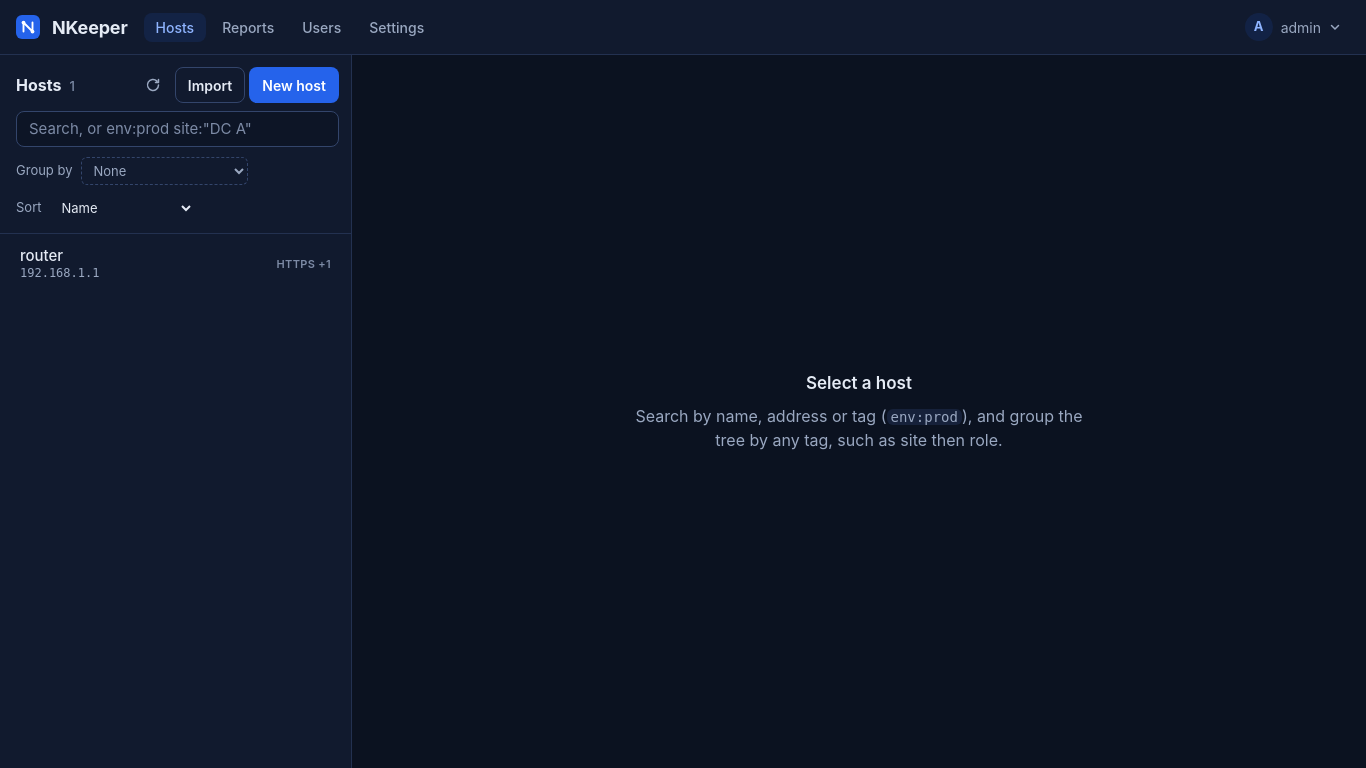
Test: web sessions › explains a changed certificate
Right-click the button "router 192.168.1.1 HTTPS +1" at [42, 256], box [8,242,343,286]
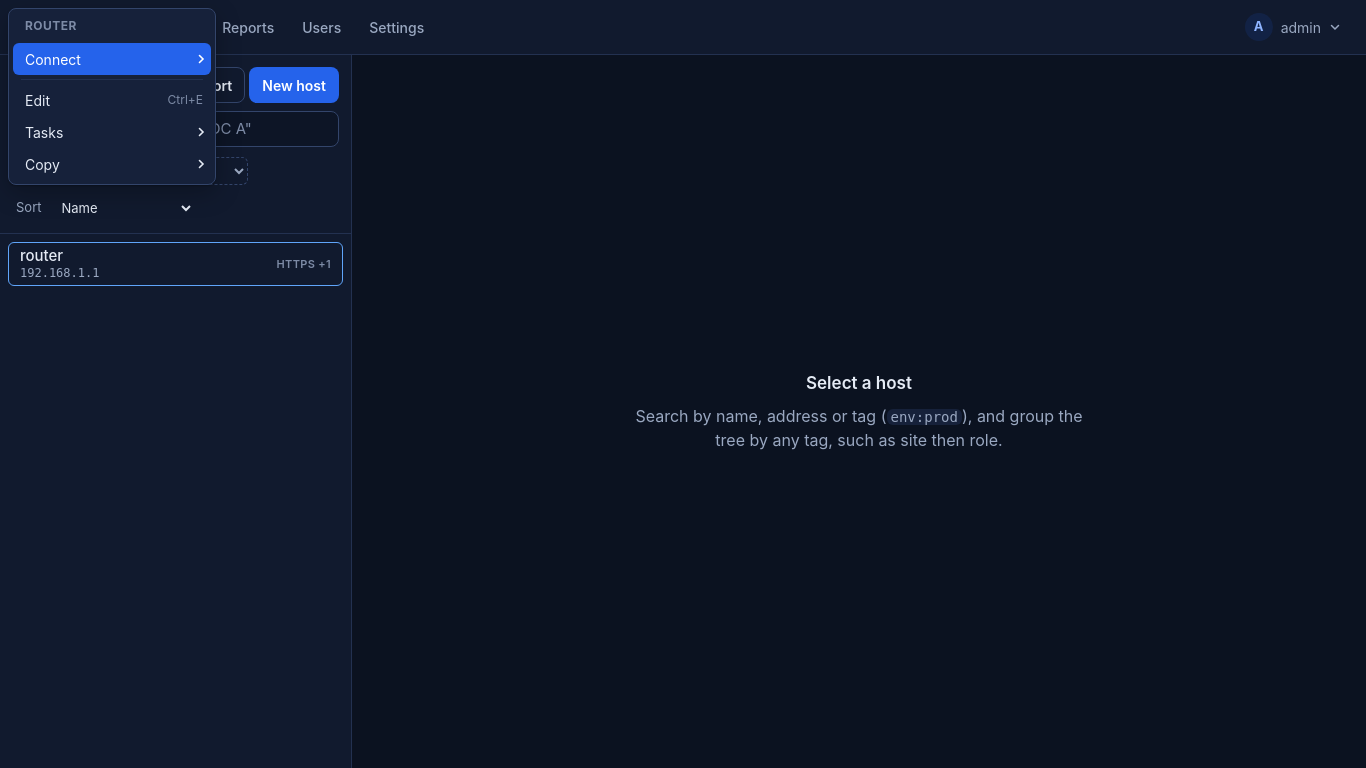
Hover over the menu item "Connect" at [112, 59], box [13,43,211,75]
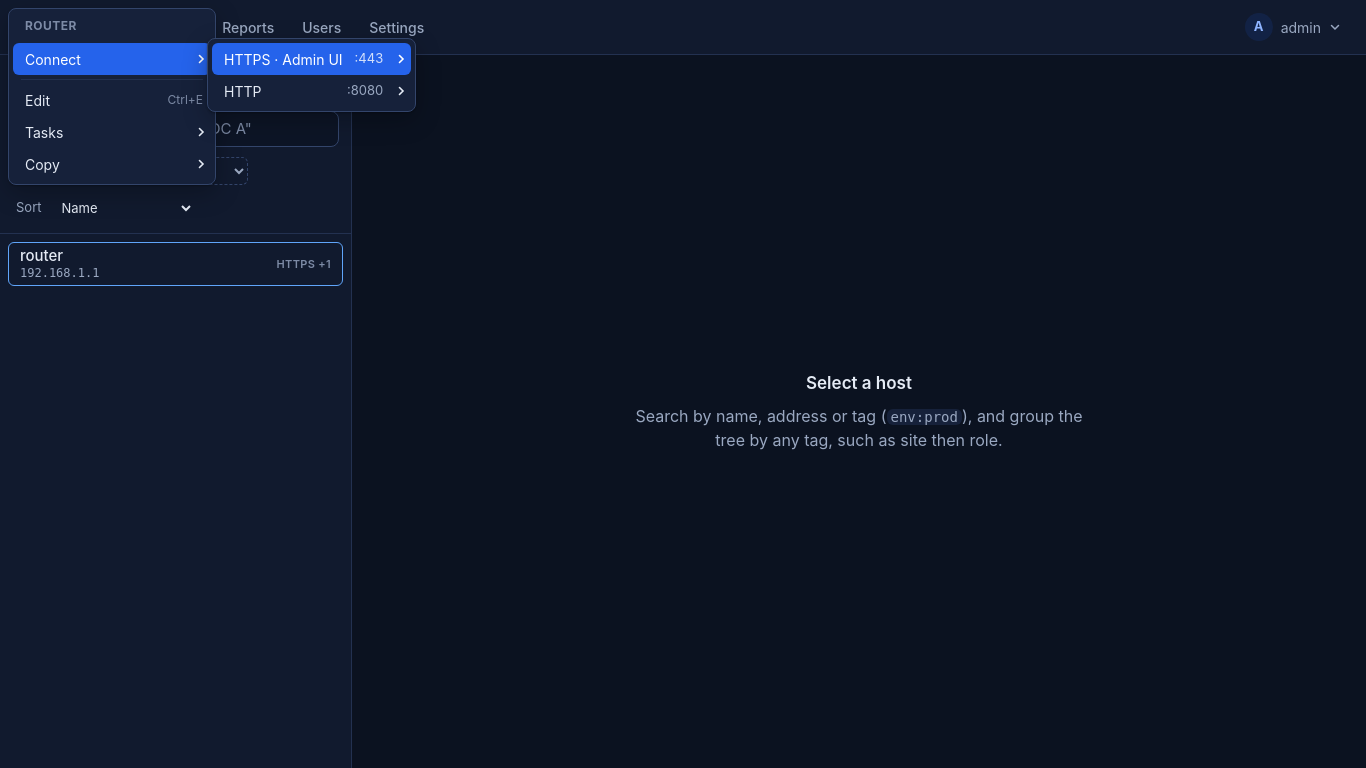
Hover over the menu item "HTTPS · Admin UI :443" at [312, 59], box [212,43,411,75]
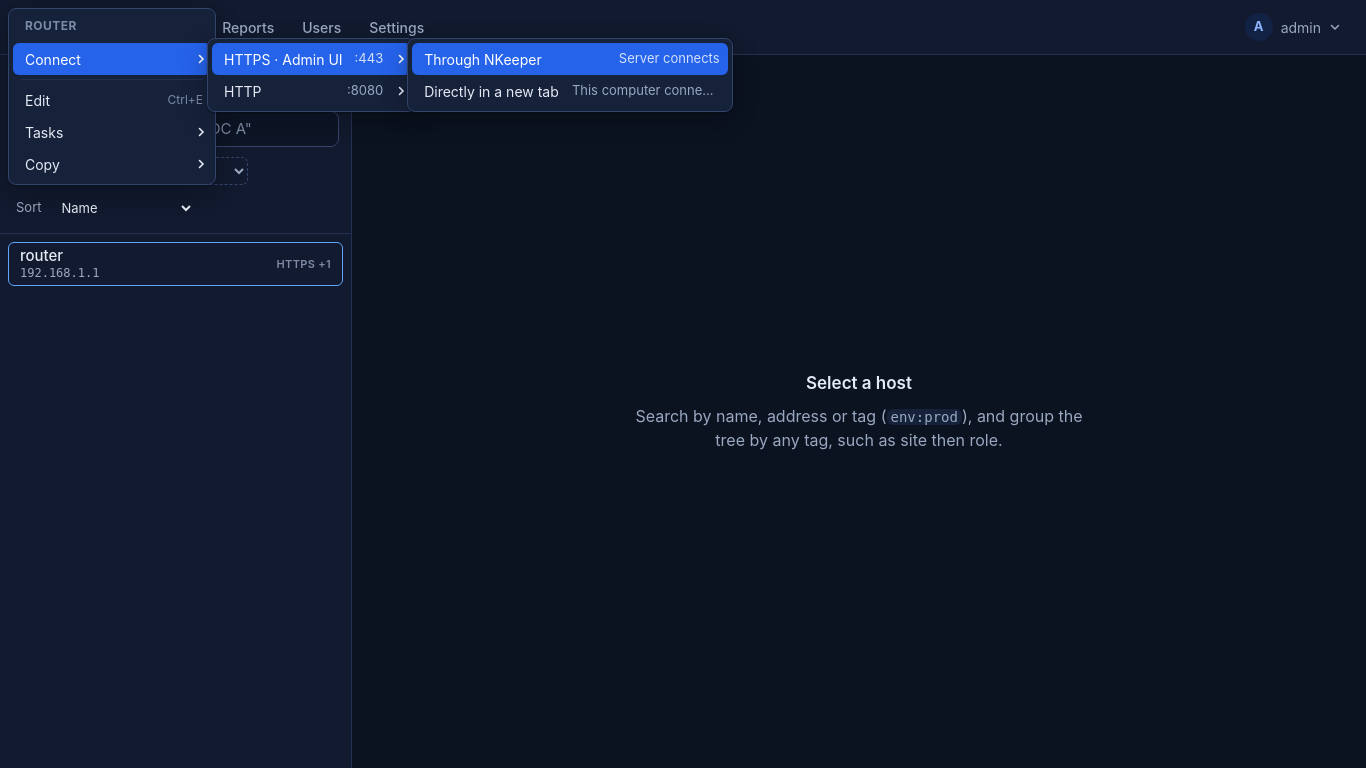
Click the menu item "Through NKeeper Server connects" at [483, 59], box [412,43,728,75]
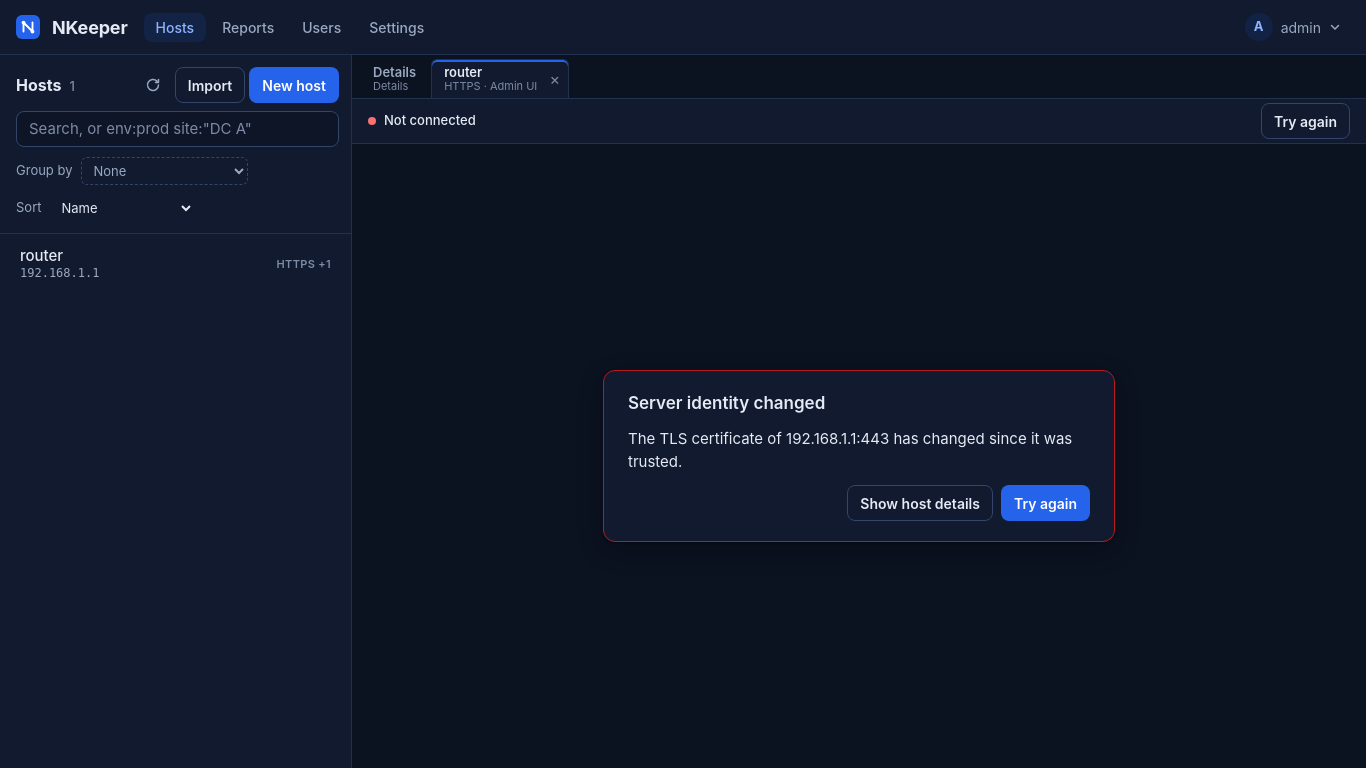
Check: the message that starts with "Server identity changed" shows "has changed since it was trusted", box [628,429,1072,471]
Check: the button "Show host details" is shown, box [847,485,993,521]
